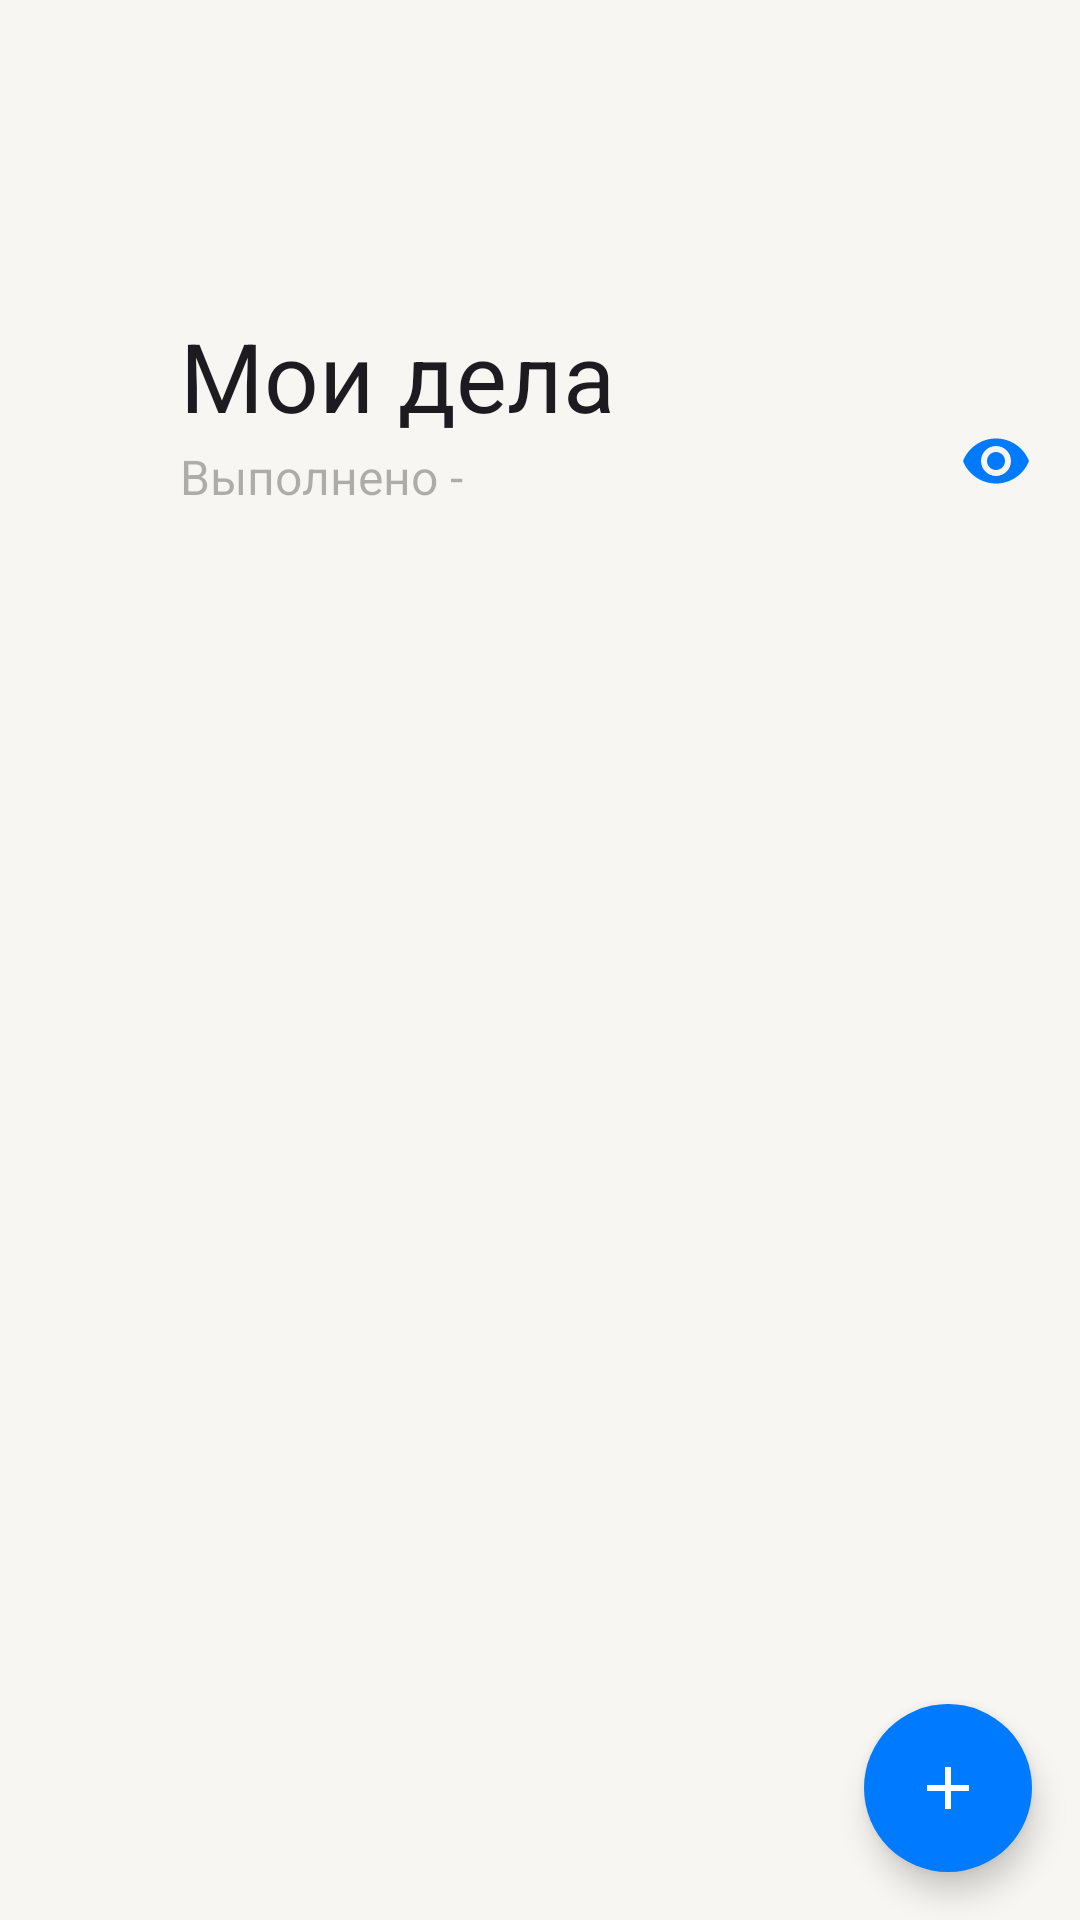

Screen size 1080x1920. Icon name, then its box in pixels as [x1,y1,x2,y2]:
add: [864,1704,1032,1872]
eye: [963,438,1029,484]
